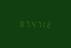eight: (17, 19, 22, 27)
four: (30, 19, 35, 27)
one: (42, 20, 47, 28)
seven: (23, 19, 28, 27), (36, 20, 41, 28)
two: (48, 20, 53, 28)
